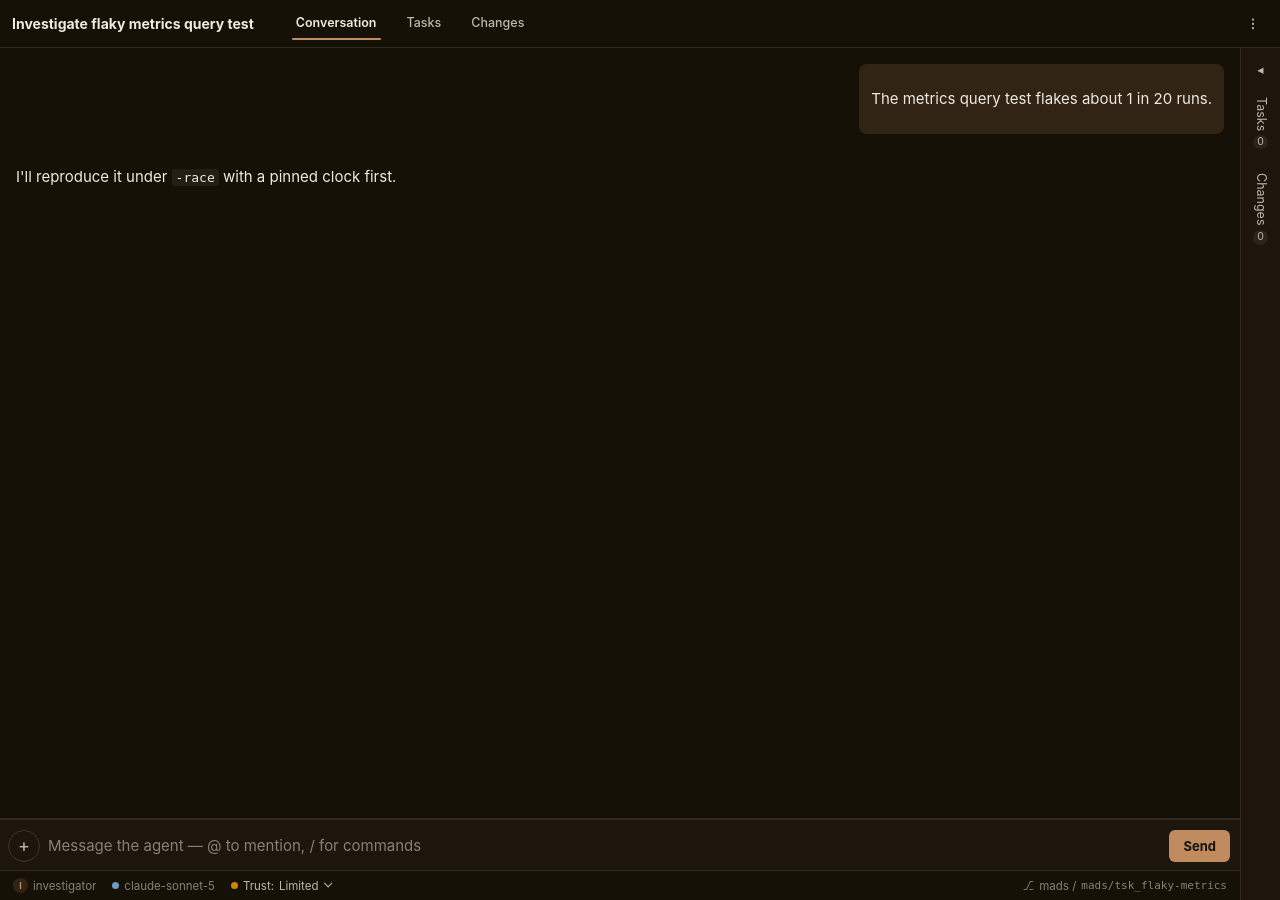
Test: SessionWorkspace › Delete opens a confirm dialog with cascade language and does not delete on cancel
The width and height of the screenshot is (1280, 900).
Click the button named "Workspace actions". click: (1253, 24)
box: [1238,10,1268,36]
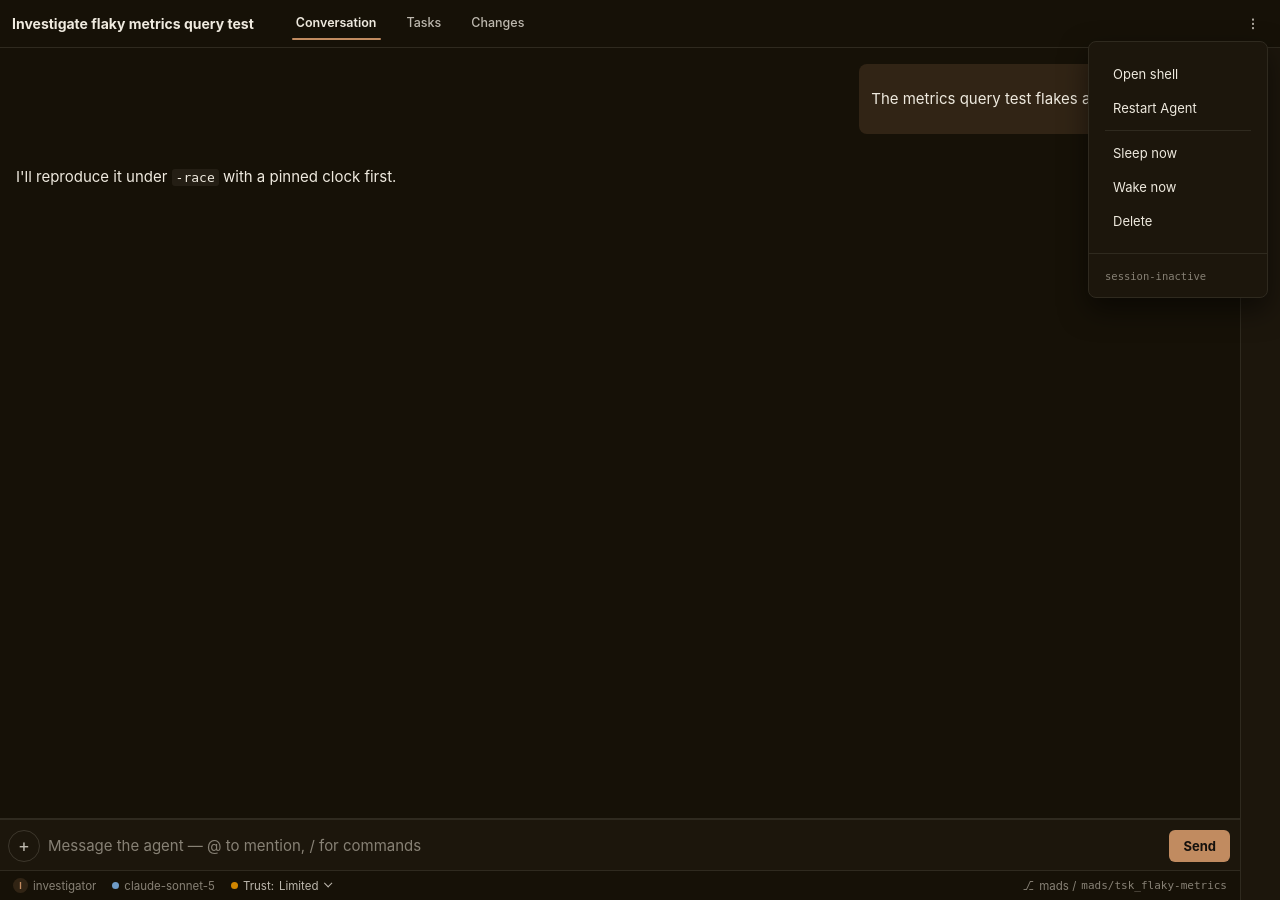
Click the button "Delete". click: (1178, 220)
box: [1105,204,1251,236]
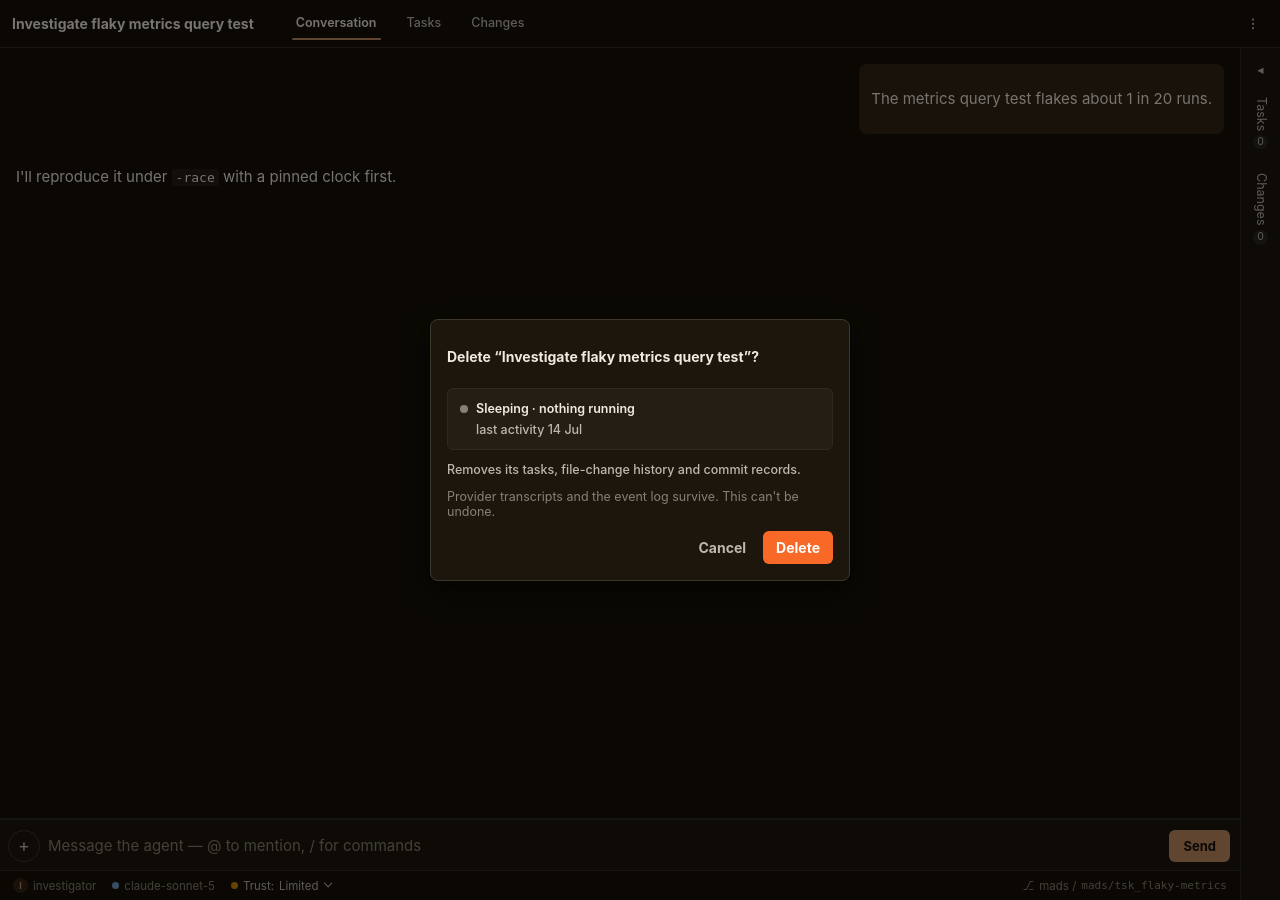
Expected: the dialog shows "event log survive", [447,489,799,519]
Click the button "Cancel". click: (722, 548)
box: [690,531,755,564]
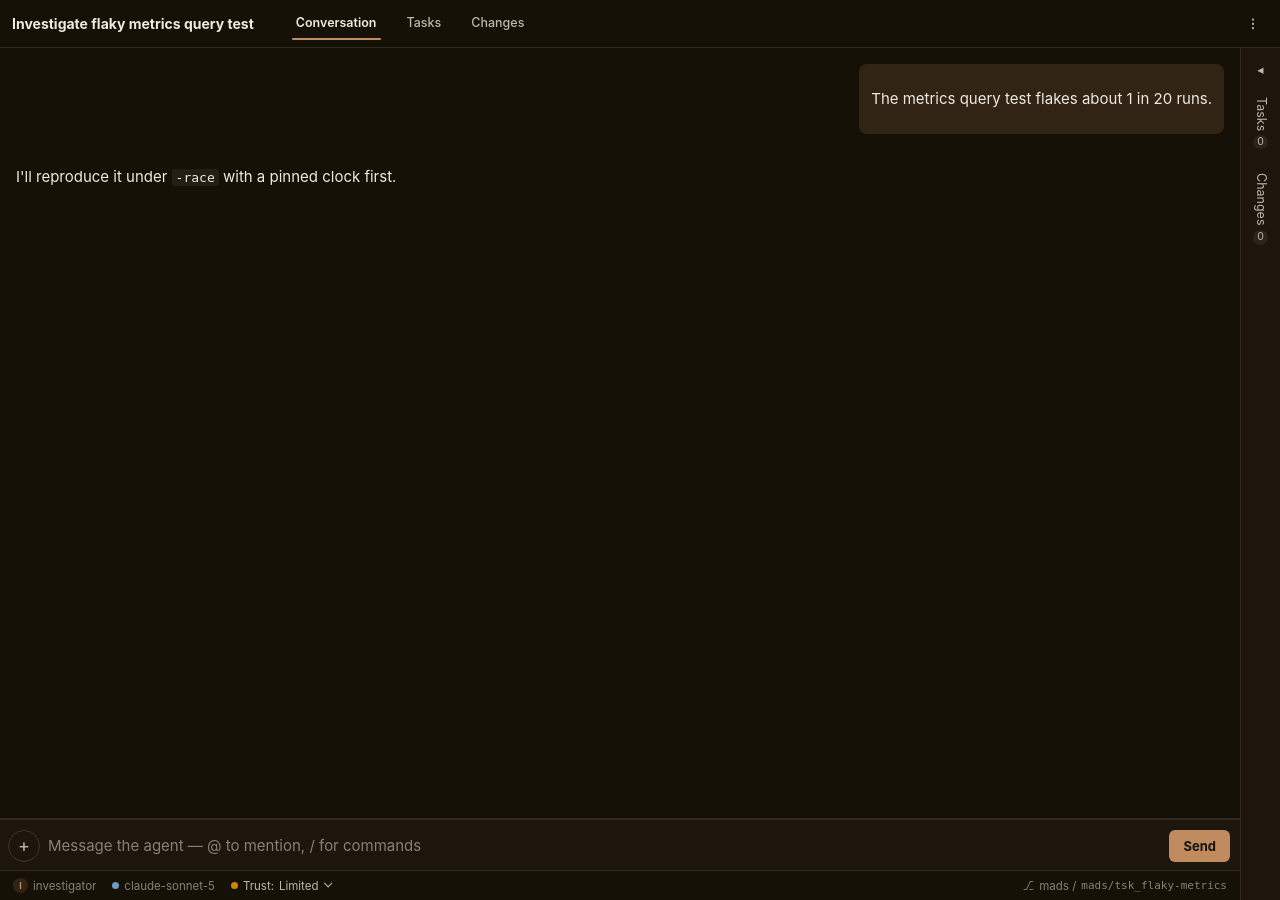
Expected: the dialog is gone
